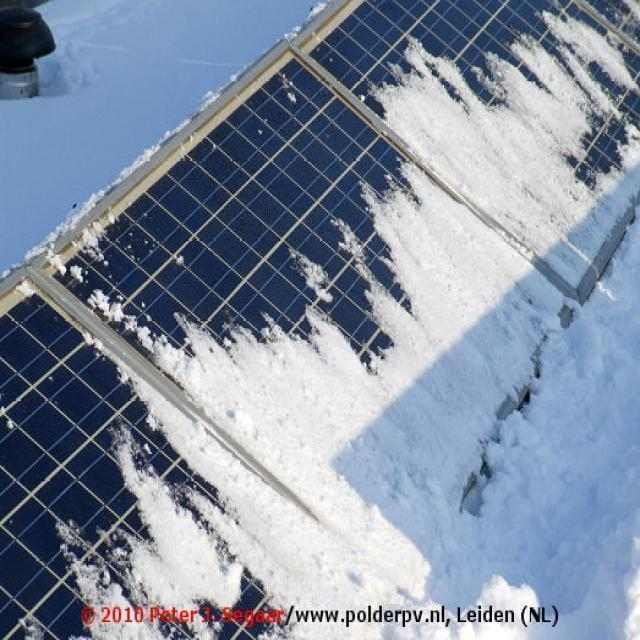Anomaly Solar Panel: (33, 47, 639, 639), (0, 281, 496, 639), (298, 0, 639, 333)
Snow: (3, 0, 639, 639)
